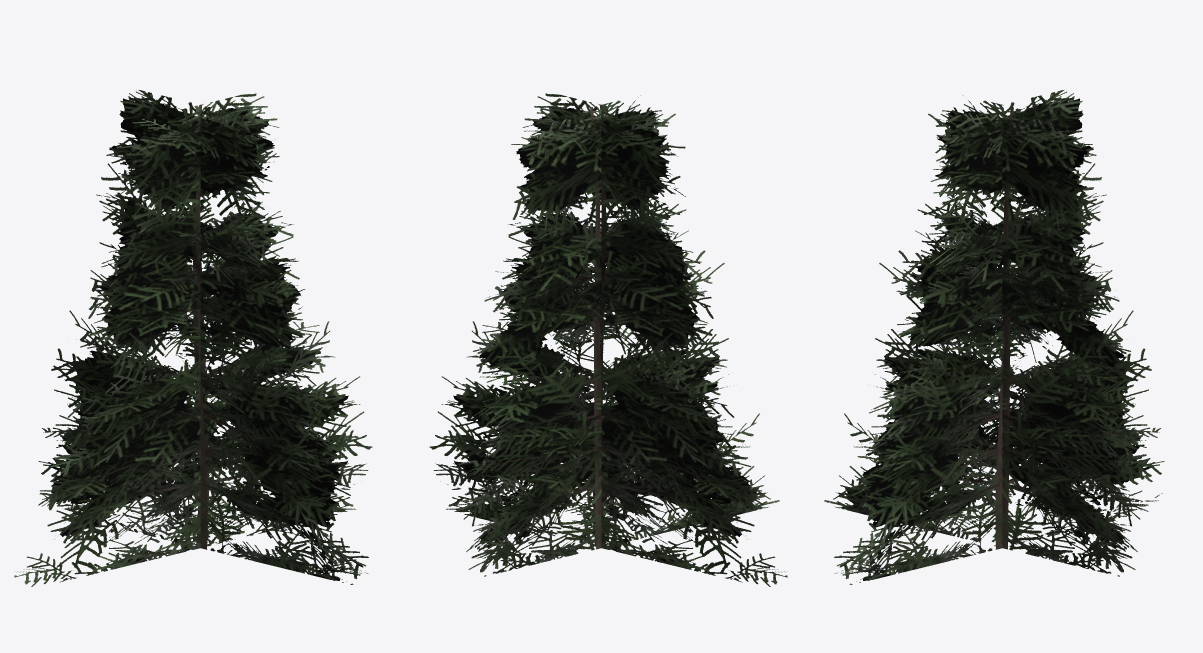
The model's file is smrk_mlady_daleko.glb.
3 renders of one model, left to right at view 1: azimuth 30°, elevation 25°; view 2: azimuth 150°, elevation 25°; view 3: azimuth 270°, elevation 25°, orthographic.
Visible parts, largest first — view 1: smrk_mlady_daleko; view 2: smrk_mlady_daleko; view 3: smrk_mlady_daleko.
Part boxes in pixels (x1,y1,x2,y2): smrk_mlady_daleko: (14, 90, 372, 586); smrk_mlady_daleko: (429, 93, 787, 586); smrk_mlady_daleko: (824, 90, 1164, 584).
Size of the model in its own units: 6.1 by 6.95 by 5.29.
3 materials, 3 textured.
